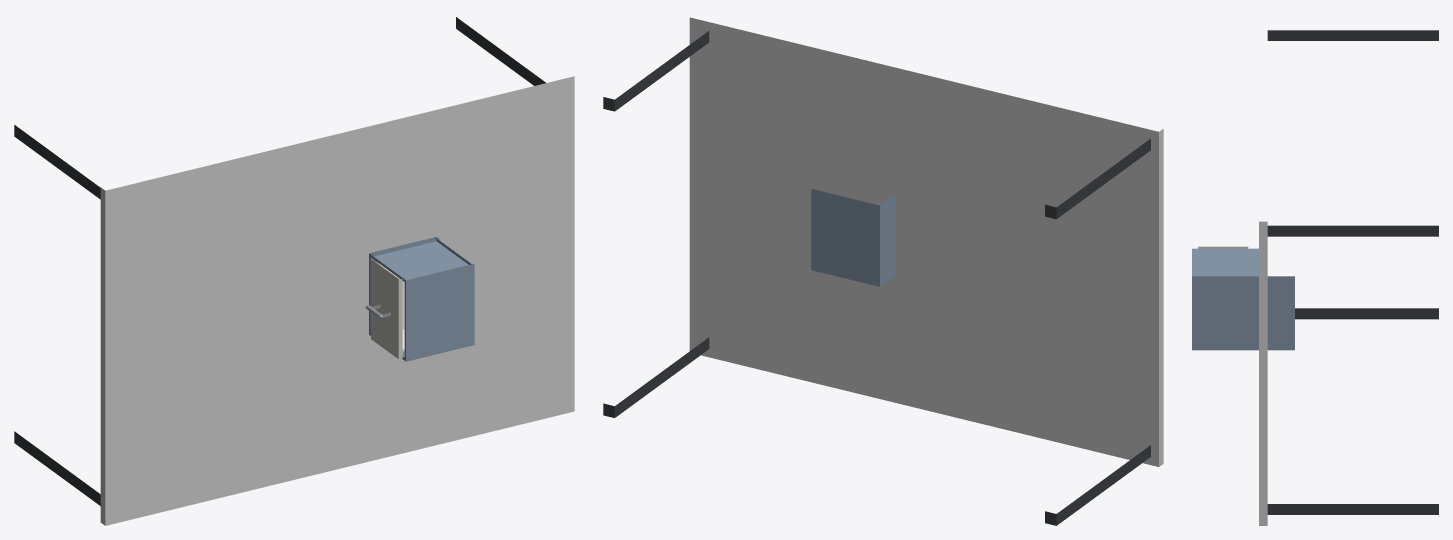
3 views of the same model, side by side, from view 1: azimuth 30°, elevation 25°; view 2: azimuth 150°, elevation 25°; view 3: azimuth 270°, elevation 25° (orthographic). The views are drawn at different scales.
Parts seen in each view (by area): view 1: s0, s1, s2; view 2: s0, s1; view 3: s0, s1.
Boxes of the visible parts, left/top/right/bottom form: s0: left=14, top=17, right=574, bottom=525; s1: left=369, top=236, right=474, bottom=361; s2: left=365, top=260, right=404, bottom=359; s0: left=603, top=17, right=1163, bottom=525; s1: left=811, top=189, right=895, bottom=286; s0: left=1259, top=30, right=1438, bottom=525; s1: left=1192, top=248, right=1294, bottom=350.
Size of the model in its own units: 2.05 by 1.4 by 1.03.
